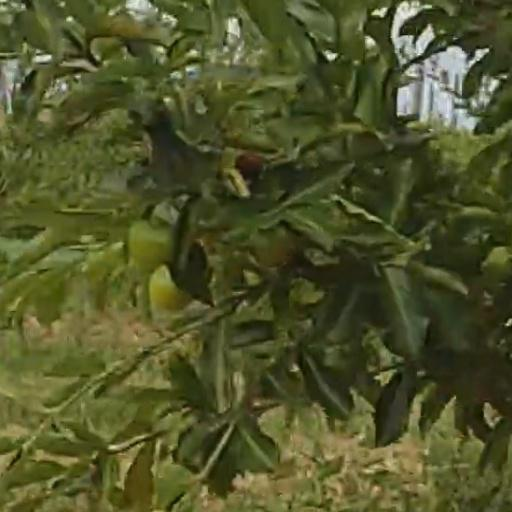acerola_verde: (128, 220, 172, 262), (152, 269, 189, 307)
acerola_vermelha: (237, 152, 261, 174)
